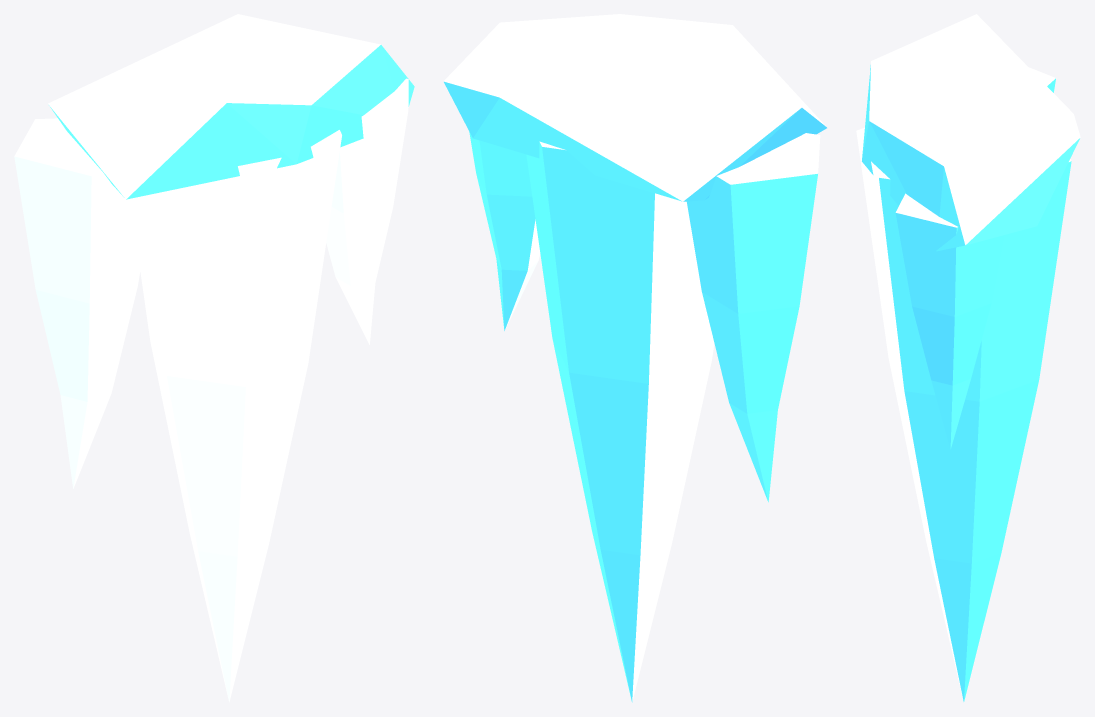
The model's file is Emblem_Ice.fbx.
The picture shows the model from 3 angles, left to right: view 1: azimuth 30°, elevation 25°; view 2: azimuth 150°, elevation 25°; view 3: azimuth 270°, elevation 25°; orthographic projection. The views are drawn at different scales.
Parts seen in each view (by area): view 1: Emblem_Ice; view 2: Emblem_Ice; view 3: Emblem_Ice.
Part boxes in pixels (x1,y1,x2,y2): Emblem_Ice: (14,14,414,702); Emblem_Ice: (443,14,827,702); Emblem_Ice: (856,14,1080,702).
Size of the model in its own units: 0.318 by 0.535 by 0.168.
